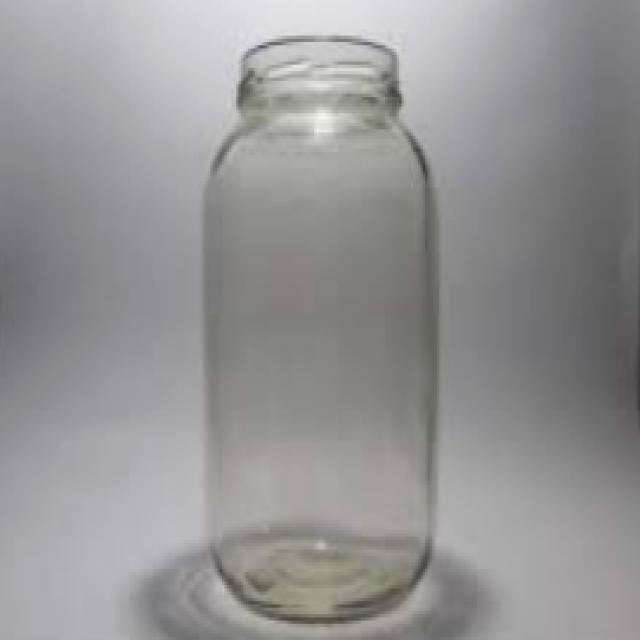ToplesKaca: (196, 29, 442, 624)
